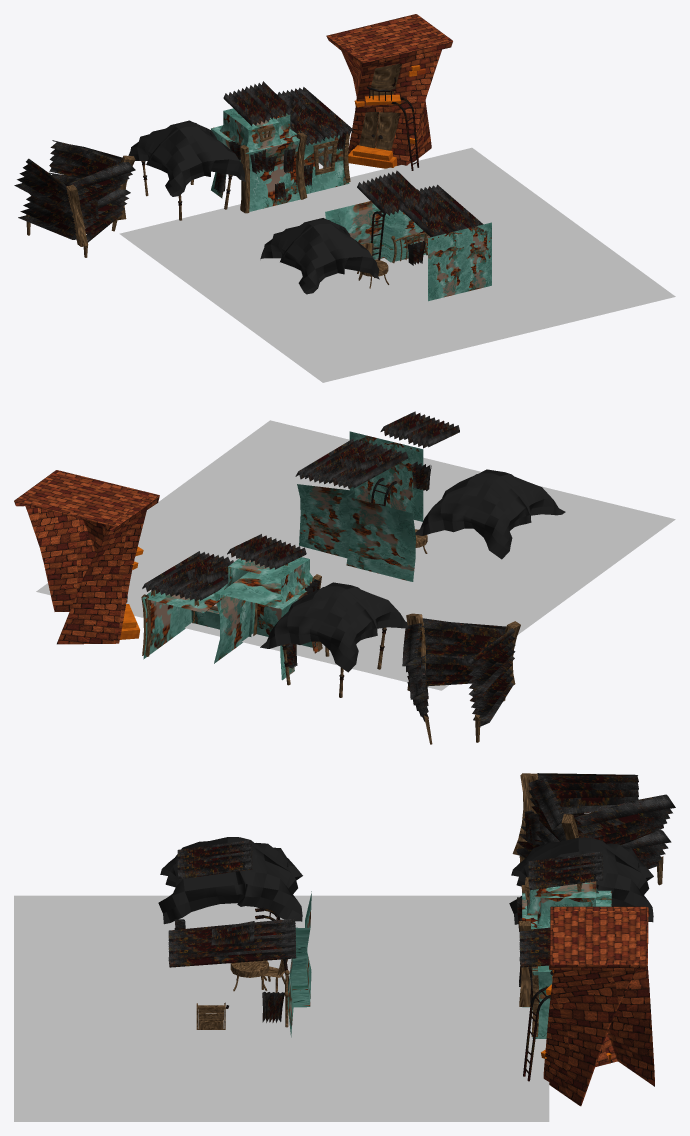
The model's file is Casa_Dia2.fbx.
The picture shows the model from 3 angles, top to bottom: view 1: azimuth 30°, elevation 25°; view 2: azimuth 150°, elevation 25°; view 3: azimuth 270°, elevation 25°; orthographic projection. The views are drawn at different scales.
Parts seen in each view (by area): view 1: polySurface47, polySurface38, TallerV_Dia2_Casa_Dentro1:TallerV_Dia2_Casa_Dentro1:pPlane1, Lona3, polySurface48, Puertas, TallerV_Dia2_Casa_Dentro1:polySurface7; view 2: polySurface47, TallerV_Dia2_Casa_Dentro1:TallerV_Dia2_Casa_Dentro1:pPlane1, polySurface38, polySurface48, Lona3, Puertas, TallerV_Dia2_Casa_Dentro1:polySurface7; view 3: polySurface47, polySurface38, polySurface48, Lona3, TallerV_Dia2_Casa_Dentro1:TallerV_Dia2_Casa_Dentro1:pPlane1, Puertas.
Part boxes in pixels (bbox=[...]): polySurface47: bbox=[119, 147, 675, 382]; polySurface38: bbox=[14, 77, 483, 265]; TallerV_Dia2_Casa_Dentro1:TallerV_Dia2_Casa_Dentro1:pPlane1: bbox=[211, 108, 491, 301]; Lona3: bbox=[128, 120, 379, 294]; polySurface48: bbox=[326, 14, 452, 165]; Puertas: bbox=[26, 63, 427, 288]; TallerV_Dia2_Casa_Dentro1:polySurface7: bbox=[348, 65, 420, 168]; polySurface47: bbox=[36, 420, 675, 690]; TallerV_Dia2_Casa_Dentro1:TallerV_Dia2_Casa_Dentro1:pPlane1: bbox=[142, 431, 423, 680]; polySurface38: bbox=[126, 411, 515, 726]; polySurface48: bbox=[14, 470, 159, 644]; Lona3: bbox=[260, 469, 565, 672]; Puertas: bbox=[141, 489, 520, 744]; TallerV_Dia2_Casa_Dentro1:polySurface7: bbox=[120, 546, 143, 639]; polySurface47: bbox=[14, 895, 549, 1121]; polySurface38: bbox=[168, 773, 675, 1081]; polySurface48: bbox=[543, 906, 654, 1106]; Lona3: bbox=[158, 837, 653, 924]; TallerV_Dia2_Casa_Dentro1:TallerV_Dia2_Casa_Dentro1:pPlane1: bbox=[287, 881, 611, 1038]; Puertas: bbox=[196, 773, 663, 1036].
Size of the model in its own units: 5935 by 1588 by 6099.
